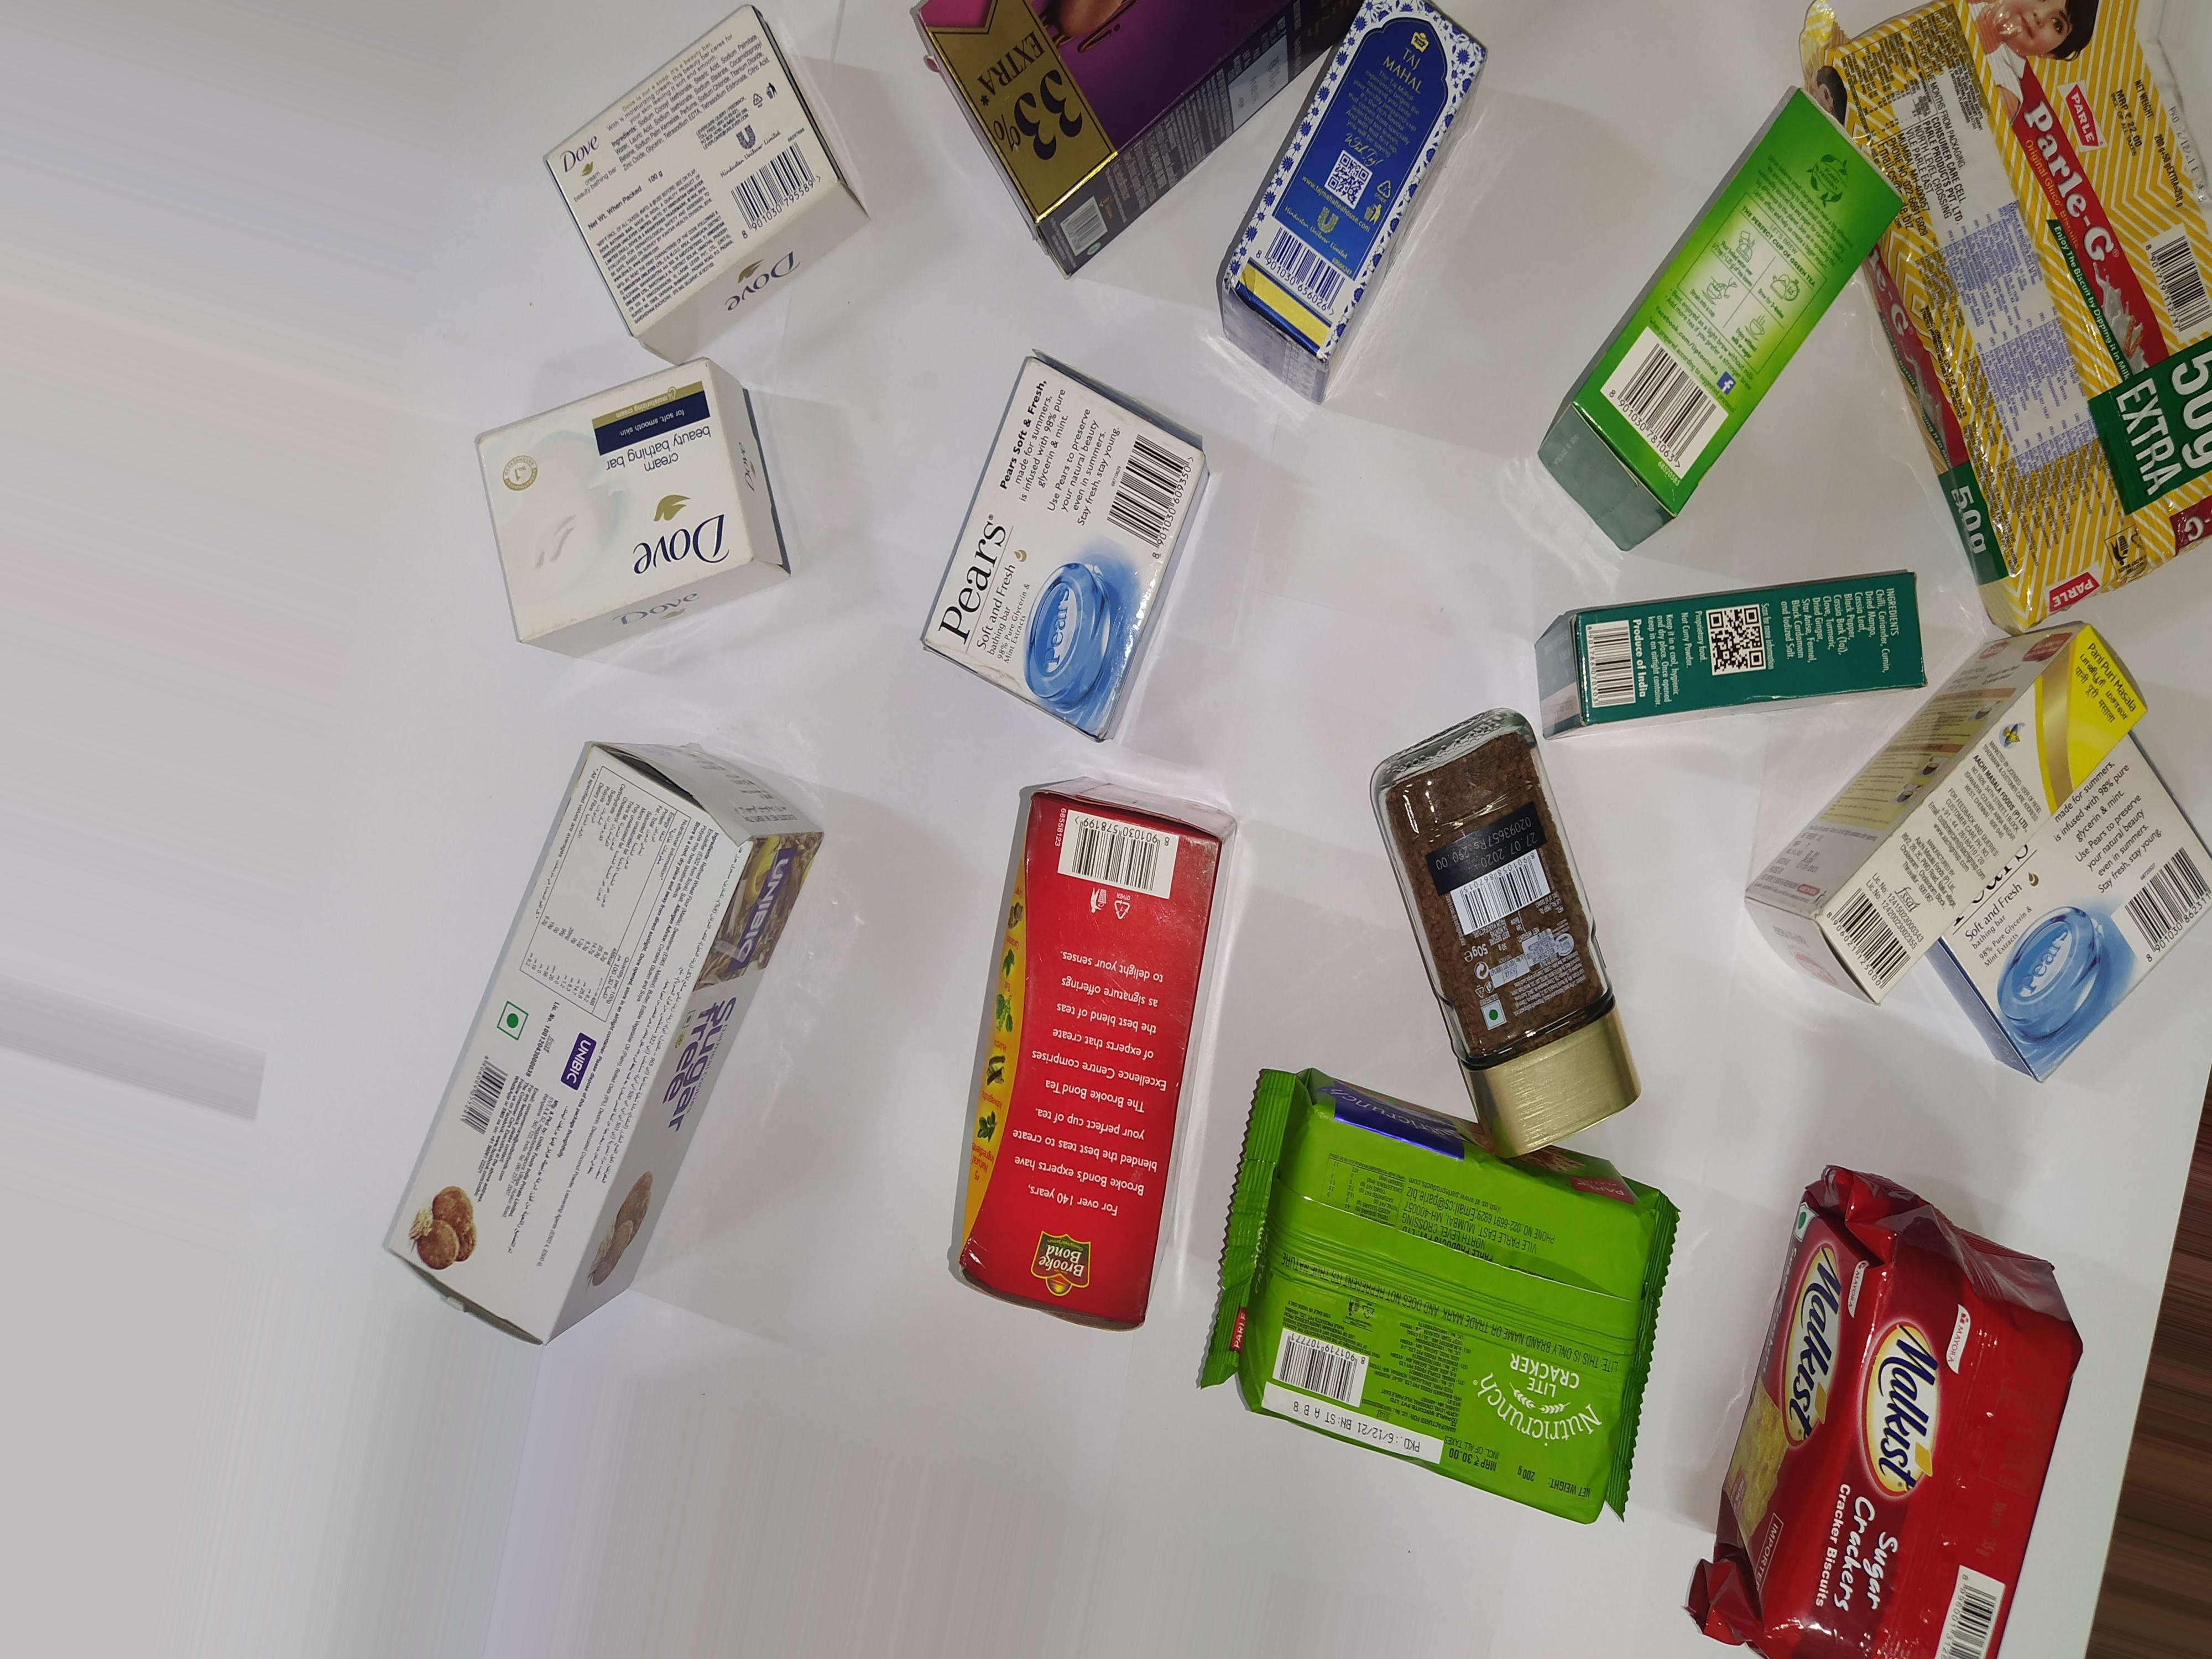Bar_code: (1588, 324, 1740, 483), (1094, 422, 1207, 561), (1052, 805, 1183, 913), (1817, 877, 1925, 1006), (2107, 838, 2207, 967), (705, 138, 838, 232), (1263, 1330, 1379, 1419), (1446, 847, 1561, 932), (2135, 221, 2207, 357), (1259, 225, 1352, 329), (1578, 610, 1649, 721), (1935, 1554, 2006, 1659), (448, 1044, 512, 1150), (1050, 200, 1123, 282)
Item: (381, 706, 841, 1392), (1681, 1164, 2195, 1659), (1818, 0, 2209, 608), (1728, 640, 2184, 1157), (1204, 1037, 1670, 1542), (1339, 709, 1672, 1168), (961, 772, 1216, 1356), (1568, 91, 1879, 552), (516, 12, 890, 352), (906, 368, 1198, 763), (448, 369, 838, 657), (1238, 0, 1498, 410), (1508, 596, 1942, 744)
QR_code: (1696, 603, 1780, 685), (1334, 155, 1364, 218)
